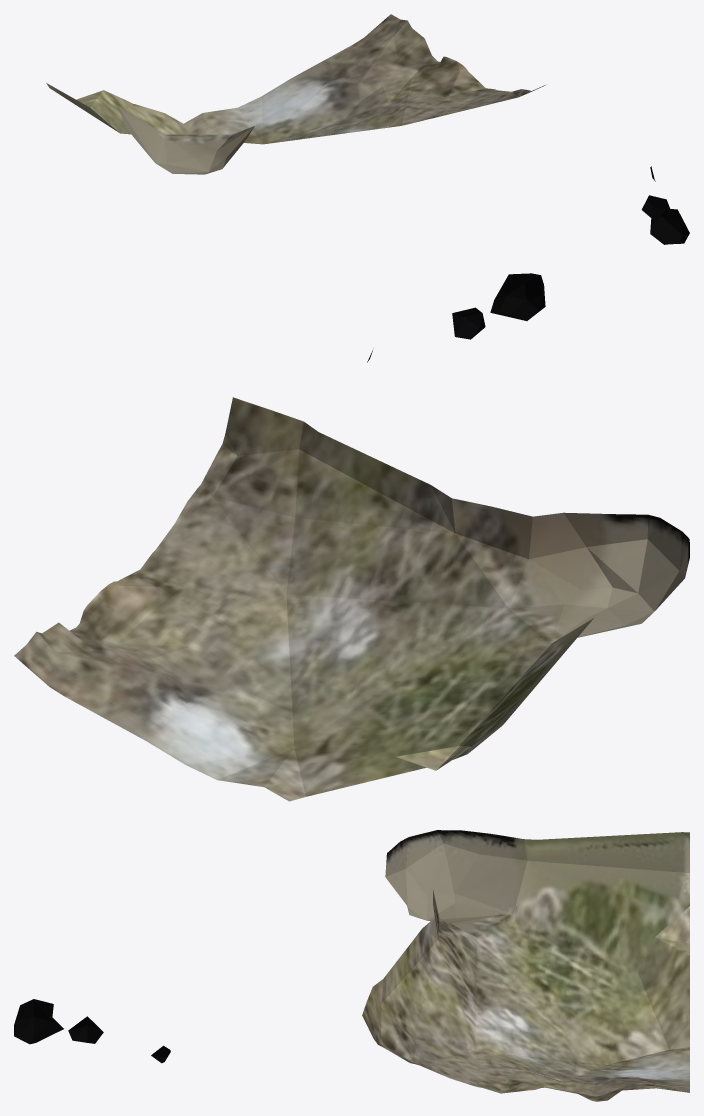
The picture shows the model from 3 angles, top to bottom: view 1: azimuth 30°, elevation 25°; view 2: azimuth 150°, elevation 25°; view 3: azimuth 270°, elevation 25°; orthographic projection. The views are drawn at different scales.
Bounding box in the file's own units: 7.46 × 2.56 × 11.51.
Materials: 1 (1 with a texture image).
